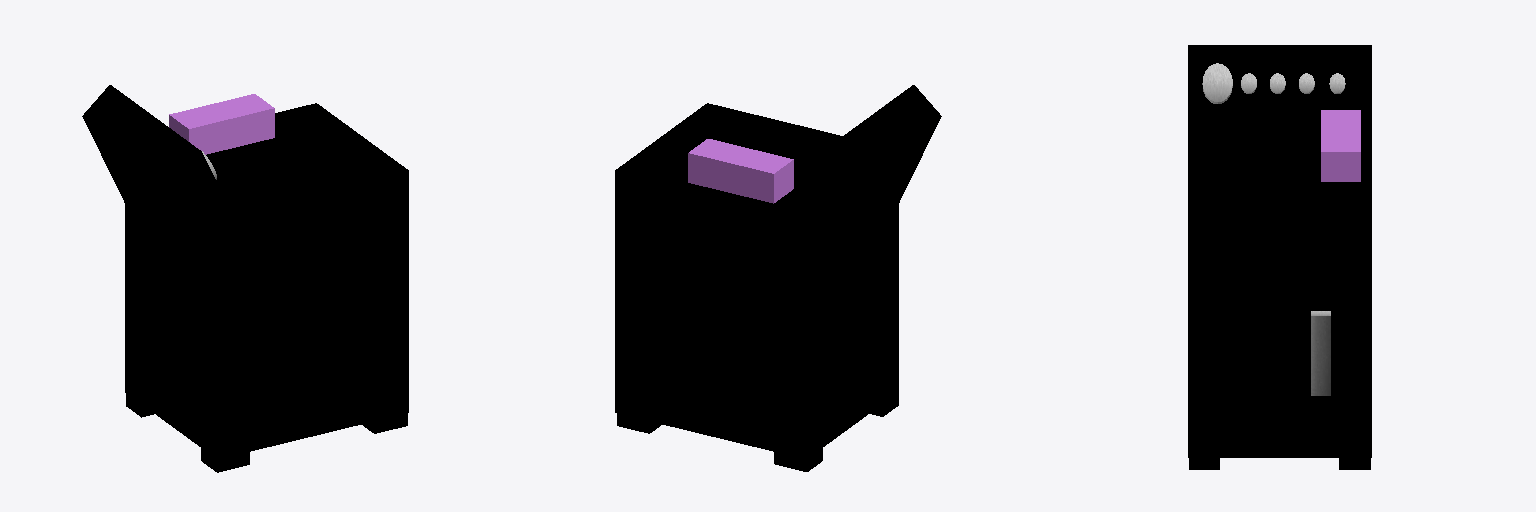
3 views of the same model, side by side, from view 1: azimuth 30°, elevation 25°; view 2: azimuth 150°, elevation 25°; view 3: azimuth 270°, elevation 25° (orthographic).
Size of the model in its own units: 8.84 by 10.74 by 5.5.
5 materials, 2 textured.